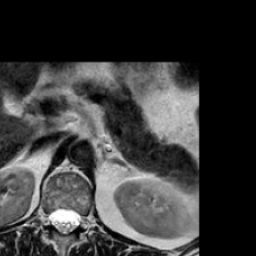CCS_normal: (59, 197, 69, 243)
LFS_normal: (79, 200, 86, 238)
LLS_normal: (69, 199, 80, 239)
RFS_normal: (41, 200, 50, 235)
RLS_normal: (49, 199, 59, 239)
